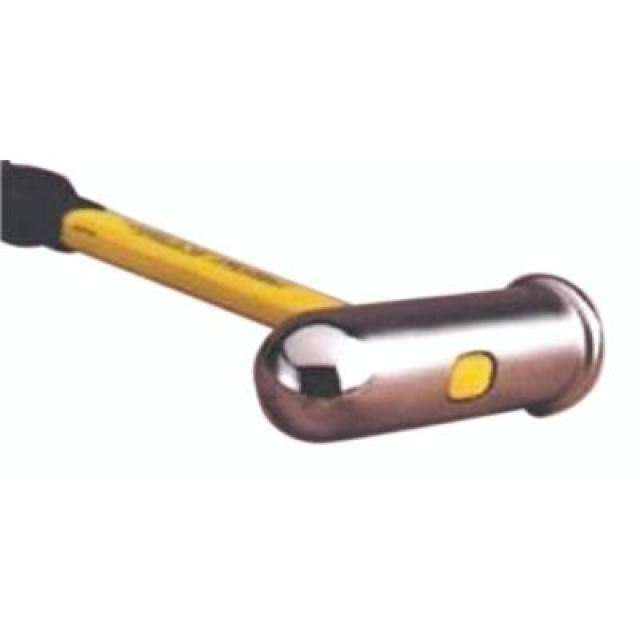hammer: (0, 146, 612, 454)
